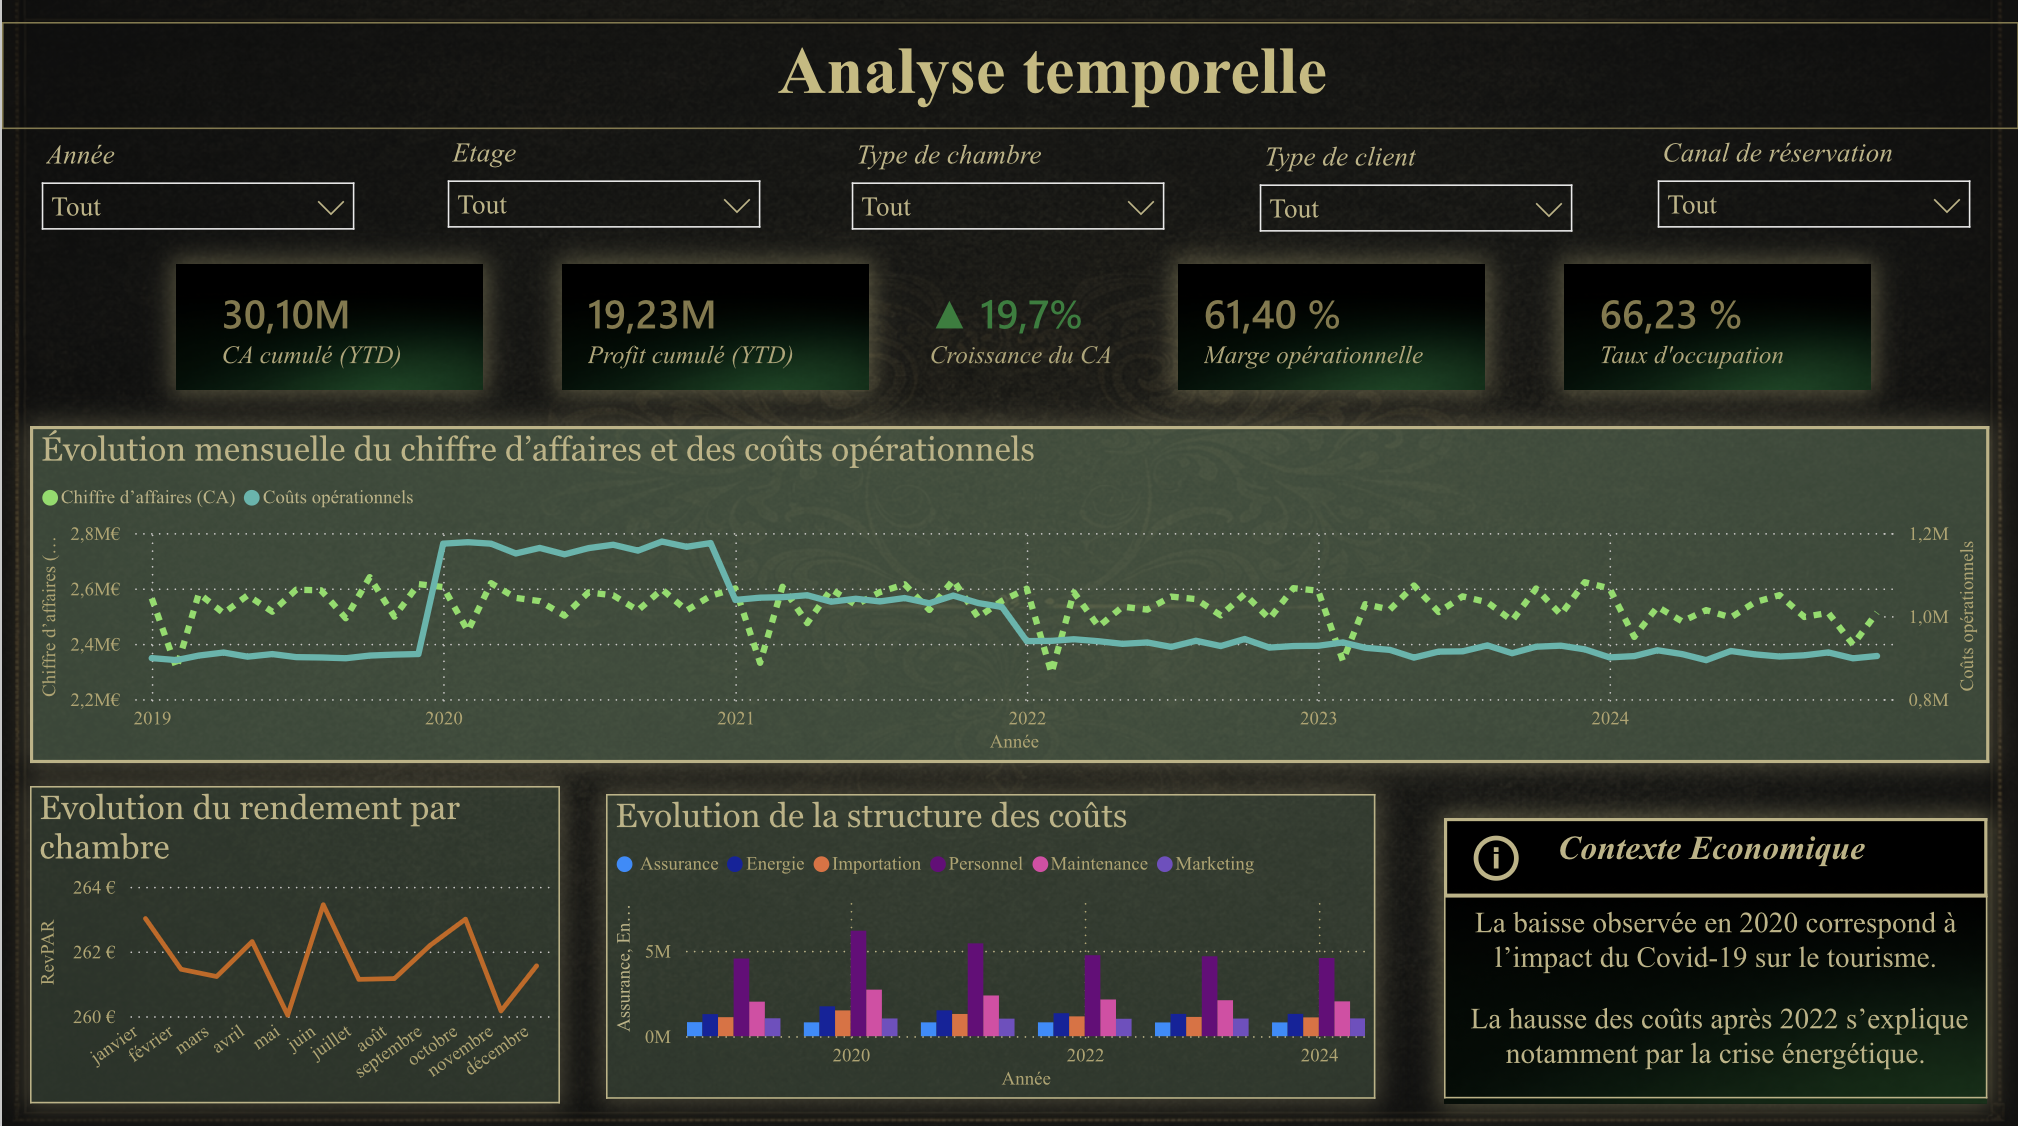

The dashboard page shown, as its layout file describes it:
{"tool":"powerbi","page":{"name":"Analyse Temporelle ","canvas":[1280,720],"ordinal":5},"visuals":[{"type":"image","box":[0,0,1280,720],"z":0},{"type":"image","box":[915,520,345,181.7],"z":1000},{"type":"textbox","box":[915,520,345,50],"z":2000},{"type":"image","box":[110,168.3,195,80],"z":3000},{"type":"image","box":[355,168.3,195,80],"z":4000},{"type":"textbox","box":[0,14.9,1280.5,67.9],"z":5000},{"type":"slicer","fields":{"Values":["Calendrier.Année"]},"box":[15,85,218.3,65],"z":6000},{"type":"slicer","fields":{"Values":["DIM_Pays_Etage.Pays"]},"box":[273.3,83.3,218.3,66.7],"z":7000},{"type":"slicer","fields":{"Values":["DIM_Ville_Chambre.Type_Chambre"]},"box":[530,85,218.3,66.7],"z":8000},{"type":"slicer","fields":{"Values":["DIM_Client.Type_Client"]},"box":[788.3,86.7,218.3,65],"z":9000},{"type":"slicer","fields":{"Values":["FACT_Reservations.Canal_Reservation"]},"box":[1041.7,83.3,218.3,66.7],"z":10000},{"type":"lineChart","title":"Évolution mensuelle du chiffre d’affaires et des coûts opérationnels","fields":{"Y":["Mesure.CA_Total"],"Y2":["Mesure.Cout_Total"],"Category":["Calendrier.Date.Variation.Hiérarchie de dates.Année","Calendrier.Date.Variation.Hiérarchie de dates.Mois"]},"box":[18,272,1244,214],"z":11000},{"type":"lineChart","title":"Evolution du rendement par chambre ","fields":{"Y":["Mesure.RevPAR"],"Category":["Calendrier.Date.Variation.Hiérarchie de dates.Mois"]},"box":[18.3,500,336.7,201.7],"z":12000},{"type":"clusteredColumnChart","title":"Evolution de la structure des coûts","fields":{"Category":["Calendrier.Date.Variation.Hiérarchie de dates.Année"],"Y":["Sum(FACT_Couts.Assurance)","Sum(FACT_Couts.Cout_Energie)","Sum(FACT_Couts.Cout_Importation)","Sum(FACT_Couts.Cout_Personnel)","Sum(FACT_Couts.Maintenance)","Sum(FACT_Couts.Marketing)"]},"box":[383.3,505,488.3,193.3],"z":13000},{"type":"cardVisual","fields":{"Data":["Mesure.Croissance_CA_Icone"]},"box":[560,163.3,201.7,90],"z":14000},{"type":"actionButton","box":[930,526.7,51.7,38.3],"z":15000},{"type":"textbox","box":[915,570,345,128.3],"z":16000},{"type":"image","box":[746.7,168.3,195,80],"z":17000},{"type":"image","box":[991.7,168.3,195,80],"z":18000},{"type":"cardVisual","fields":{"Data":["Mesure.CA_YTD"]},"box":[110,163.3,218.3,90],"z":19000},{"type":"cardVisual","fields":{"Data":["Mesure.Profit_YTD"]},"box":[343.3,163.3,218.3,90],"z":20000},{"type":"cardVisual","fields":{"Data":["Mesure.Marge_%"]},"box":[733.3,163.3,221.7,90],"z":21000},{"type":"cardVisual","fields":{"Data":["Mesure.Taux_Occupation"]},"box":[985,163.3,201.7,90],"z":22000}]}

Visuals, with their boxes in screenshot pixels (x1, y1, x2, y2), scaled from the page's 1280x720 canvas onto the 2018x1126 screenshot:
image: bbox=(0, 0, 2017, 1125)
image: bbox=(1443, 813, 1986, 1097)
textbox: bbox=(1443, 813, 1986, 891)
image: bbox=(173, 263, 481, 388)
image: bbox=(560, 263, 867, 388)
textbox: bbox=(0, 23, 2017, 129)
slicer - Calendrier.Année: bbox=(24, 133, 368, 235)
slicer - DIM_Pays_Etage.Pays: bbox=(431, 130, 775, 235)
slicer - DIM_Ville_Chambre.Type_Chambre: bbox=(836, 133, 1180, 237)
slicer - DIM_Client.Type_Client: bbox=(1243, 136, 1587, 237)
slicer - FACT_Reservations.Canal_Reservation: bbox=(1642, 130, 1986, 235)
"Évolution mensuelle du chiffre d’affaires et des coûts opérationnels" lineChart: bbox=(28, 425, 1990, 760)
"Evolution du rendement par chambre " lineChart: bbox=(29, 782, 560, 1097)
"Evolution de la structure des coûts" clusteredColumnChart: bbox=(604, 790, 1374, 1092)
cardVisual - Mesure.Croissance_CA_Icone: bbox=(883, 255, 1201, 396)
actionButton: bbox=(1466, 824, 1548, 884)
textbox: bbox=(1443, 891, 1986, 1092)
image: bbox=(1177, 263, 1485, 388)
image: bbox=(1563, 263, 1871, 388)
cardVisual - Mesure.CA_YTD: bbox=(173, 255, 518, 396)
cardVisual - Mesure.Profit_YTD: bbox=(541, 255, 885, 396)
cardVisual - Mesure.Marge_%: bbox=(1156, 255, 1506, 396)
cardVisual - Mesure.Taux_Occupation: bbox=(1553, 255, 1871, 396)
